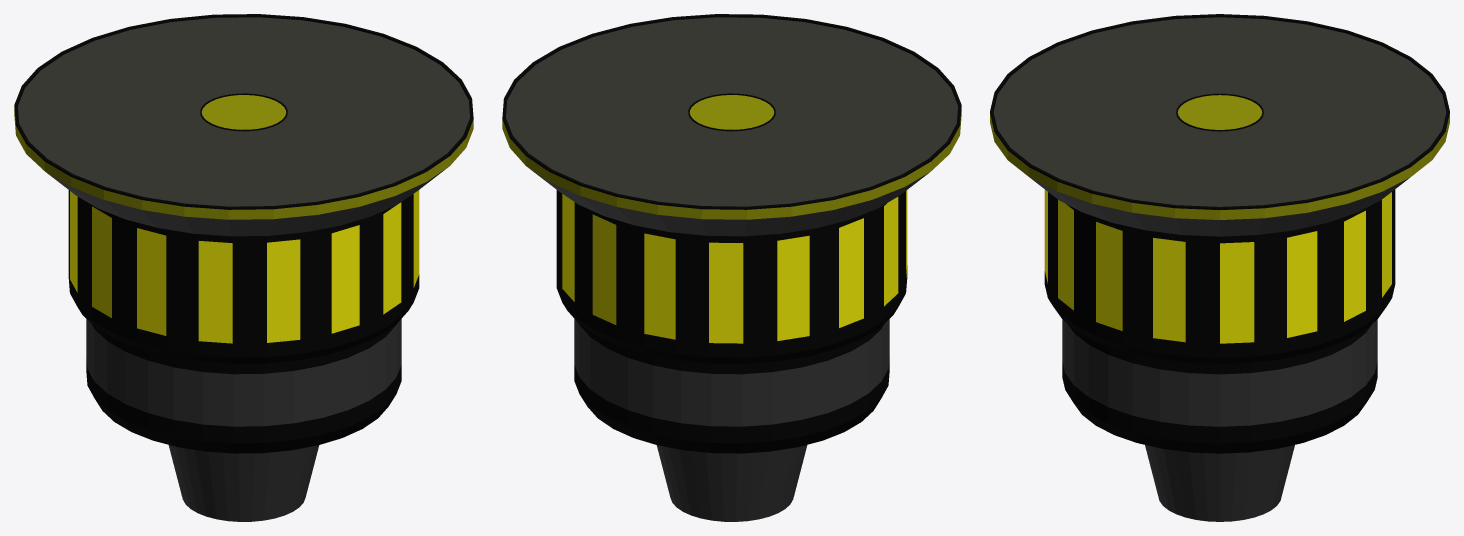
Rendered from DangerPlatform.fbx.
The picture shows the model from 3 angles, left to right: view 1: azimuth 30°, elevation 25°; view 2: azimuth 150°, elevation 25°; view 3: azimuth 270°, elevation 25°; orthographic projection.
Visible parts, largest first — view 1: Цилиндр; view 2: Цилиндр; view 3: Цилиндр.
Part boxes in pixels (x1,y1,x2,y2): Цилиндр: [14, 14, 473, 521]; Цилиндр: [502, 14, 961, 521]; Цилиндр: [990, 14, 1449, 521].
Size of the model in its own units: 524 by 484 by 524.
